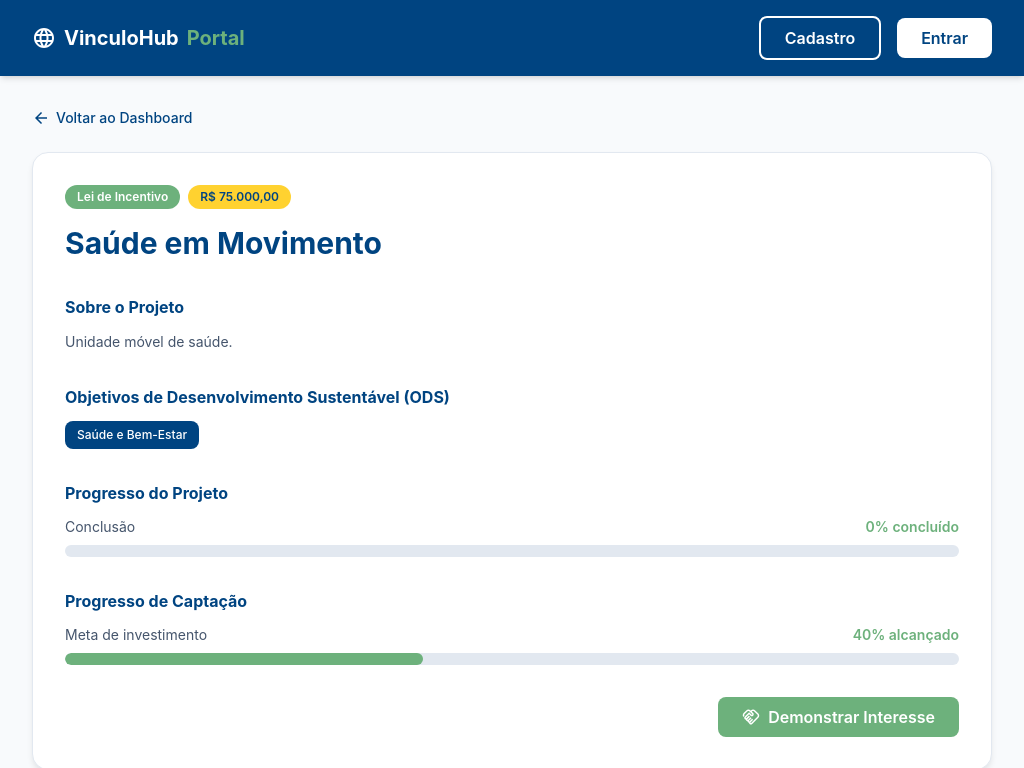
Test: ProjectDetailsPage › Demonstrar Interesse › clicar no botão abre modal de confirmação
Click the button "Demonstrar Interesse" at (839, 717), box top-left (718, 697), bottom-right (959, 737)
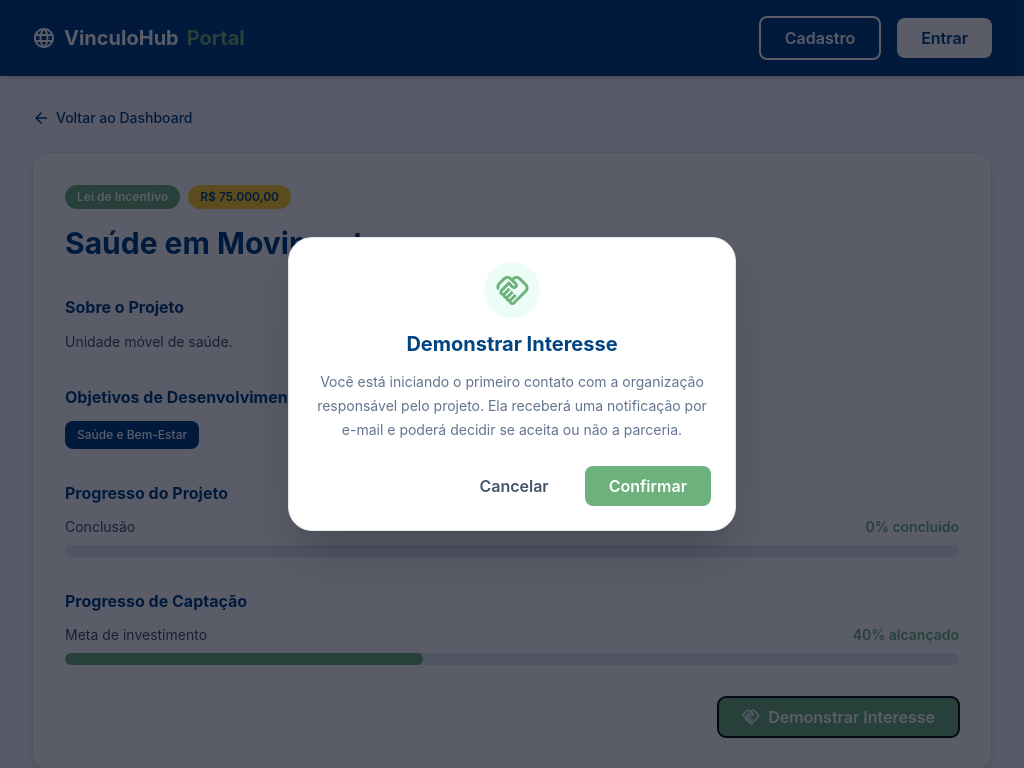
Now the dialog is shown
